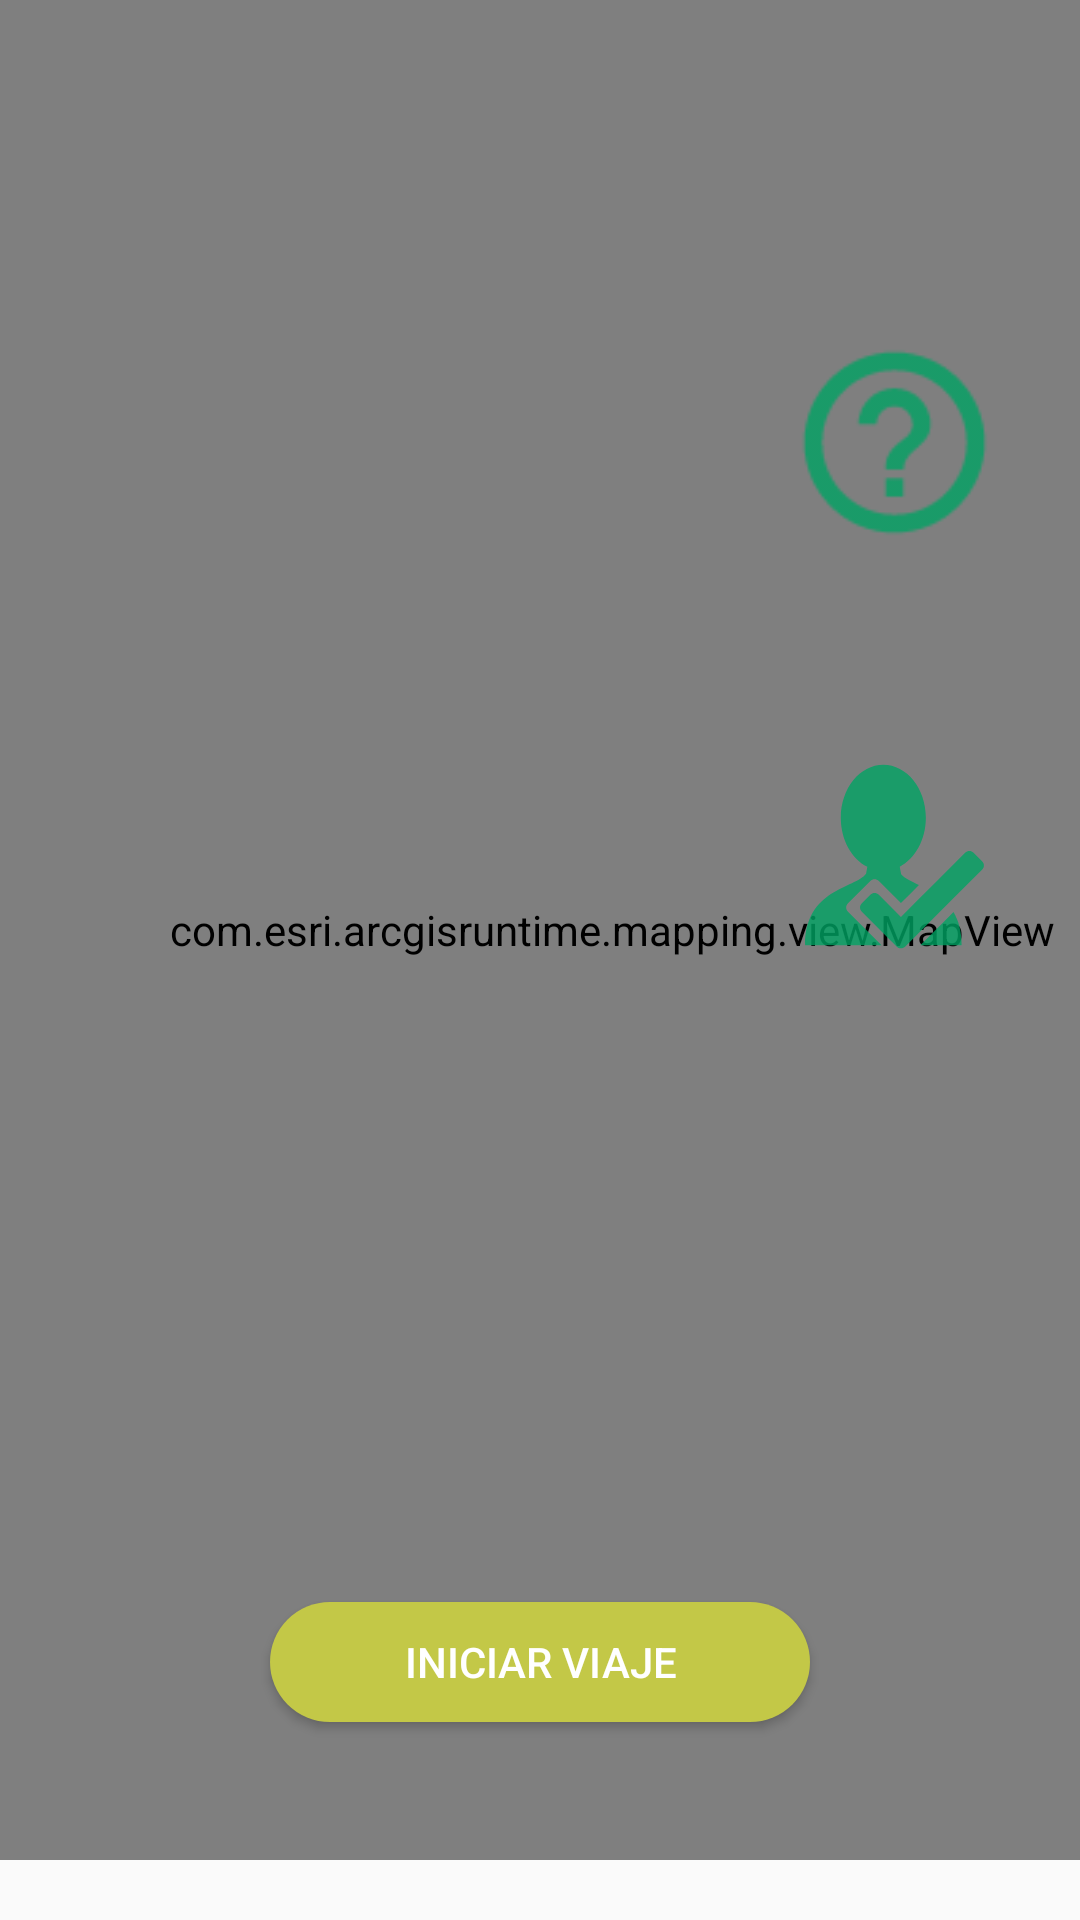

Named icons in this screenshot (1080 × 1920) and their centers, (x=x, y=y):
ayuda: (x=894, y=442)
